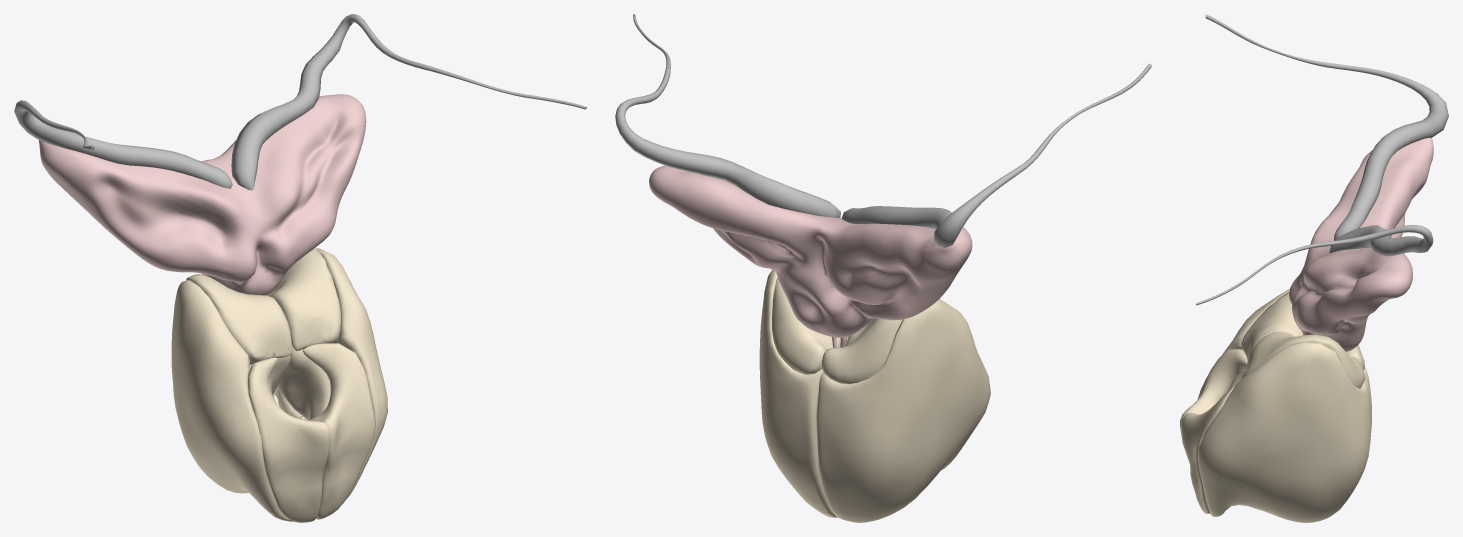
File: hra-prostate-male-v1.glb
3 views of the same model, side by side, from view 1: azimuth 30°, elevation 25°; view 2: azimuth 150°, elevation 25°; view 3: azimuth 270°, elevation 25° (orthographic). The views are drawn at different scales.
Visible parts, largest first — view 1: VH_M_seminal_vesicle, VH_M_peripheral_zone_of_prostate_R, VH_M_anterior_fibromuscular_stroma_R, VH_M_anterior_fibromuscular_stroma_L, VH_M_vas_deferens_R, VH_M_vas_deferens_L, VH_M_central_zone_of_prostate_L, VH_M_peripheral_zone_of_prostate_L, VH_M_central_zone_of_prostate_R, VH_M_base_of_prostate, VH_M_transition_zone__of_prostate_L; view 2: VH_M_peripheral_zone_of_prostate_R, VH_M_seminal_vesicle, VH_M_peripheral_zone_of_prostate_L, VH_M_vas_deferens_R, VH_M_vas_deferens_L, VH_M_central_zone_of_prostate_R, VH_M_central_zone_of_prostate_L; view 3: VH_M_peripheral_zone_of_prostate_L, VH_M_seminal_vesicle, VH_M_vas_deferens_L, VH_M_vas_deferens_R, VH_M_central_zone_of_prostate_L, VH_M_central_zone_of_prostate_R, VH_M_anterior_fibromuscular_stroma_L, VH_M_anterior_fibromuscular_stroma_R, VH_M_base_of_prostate, VH_M_peripheral_zone_of_prostate_R.
Part boxes in pixels (x1,y1,x2,y2): VH_M_seminal_vesicle: (39, 94, 366, 295); VH_M_peripheral_zone_of_prostate_R: (171, 280, 293, 521); VH_M_anterior_fibromuscular_stroma_R: (248, 357, 329, 522); VH_M_anterior_fibromuscular_stroma_L: (303, 343, 375, 519); VH_M_vas_deferens_R: (231, 14, 586, 190); VH_M_vas_deferens_L: (14, 100, 232, 188); VH_M_central_zone_of_prostate_L: (267, 248, 340, 387); VH_M_peripheral_zone_of_prostate_L: (272, 248, 387, 499); VH_M_central_zone_of_prostate_R: (186, 274, 292, 364); VH_M_base_of_prostate: (235, 317, 367, 454); VH_M_transition_zone__of_prostate_L: (277, 346, 330, 420); VH_M_peripheral_zone_of_prostate_R: (816, 299, 990, 522); VH_M_seminal_vesicle: (649, 165, 972, 337); VH_M_peripheral_zone_of_prostate_L: (759, 270, 837, 517); VH_M_vas_deferens_R: (615, 14, 841, 217); VH_M_vas_deferens_L: (841, 63, 1151, 247); VH_M_central_zone_of_prostate_R: (821, 318, 902, 383); VH_M_central_zone_of_prostate_L: (772, 277, 848, 374); VH_M_peripheral_zone_of_prostate_L: (1197, 342, 1371, 522); VH_M_seminal_vesicle: (1289, 138, 1433, 351); VH_M_vas_deferens_L: (1205, 14, 1448, 240); VH_M_vas_deferens_R: (1196, 225, 1433, 305); VH_M_central_zone_of_prostate_L: (1241, 332, 1365, 388); VH_M_central_zone_of_prostate_R: (1241, 292, 1364, 369); VH_M_anterior_fibromuscular_stroma_L: (1181, 379, 1240, 513); VH_M_anterior_fibromuscular_stroma_R: (1180, 349, 1247, 443); VH_M_base_of_prostate: (1182, 325, 1253, 447); VH_M_peripheral_zone_of_prostate_R: (1200, 289, 1371, 409).
Bounding box in the file's own units: 0.083 × 0.0706 × 0.0428.
